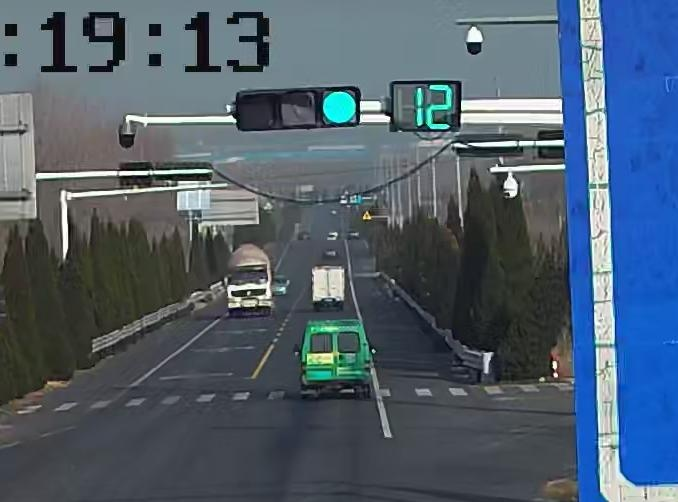green: (322, 89, 358, 127)
greentime: (409, 83, 458, 134)
